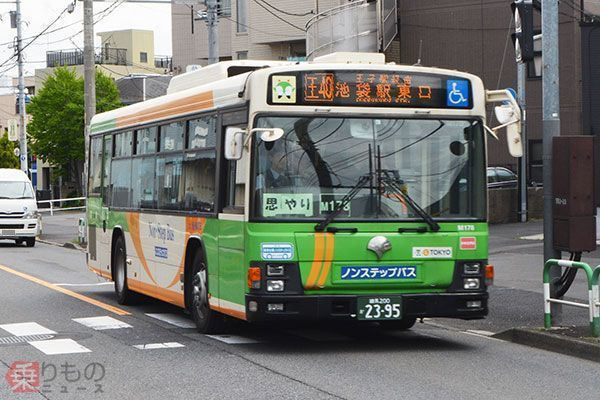destination: (300, 72, 443, 106)
